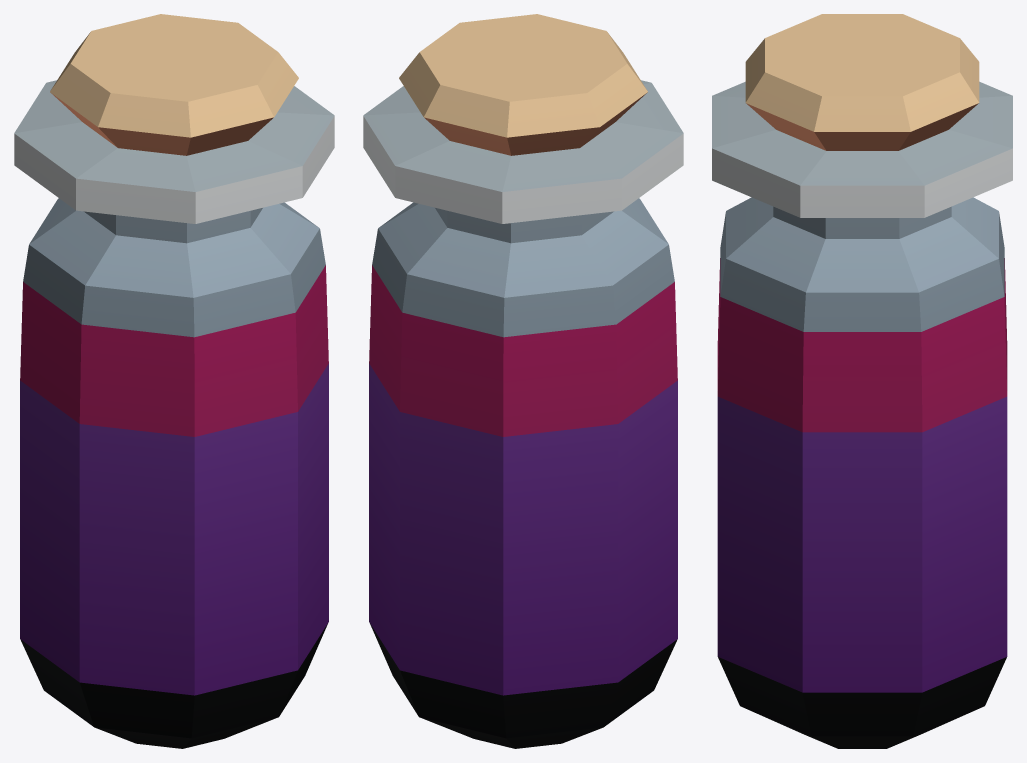
The model's file is source.glb.
The picture shows the model from 3 angles, left to right: view 1: azimuth 30°, elevation 25°; view 2: azimuth 150°, elevation 25°; view 3: azimuth 270°, elevation 25°; orthographic projection.
Visible parts, largest first — view 1: model; view 2: model; view 3: model.
Boxes of the visible parts, x1,y1,x2,y2 form: model: (14,14,334,748); model: (363,14,683,748); model: (712,14,1012,748).
Size of the model in its own units: 0.22 by 0.54 by 0.22.
Materials: 1 (1 with a texture image).
